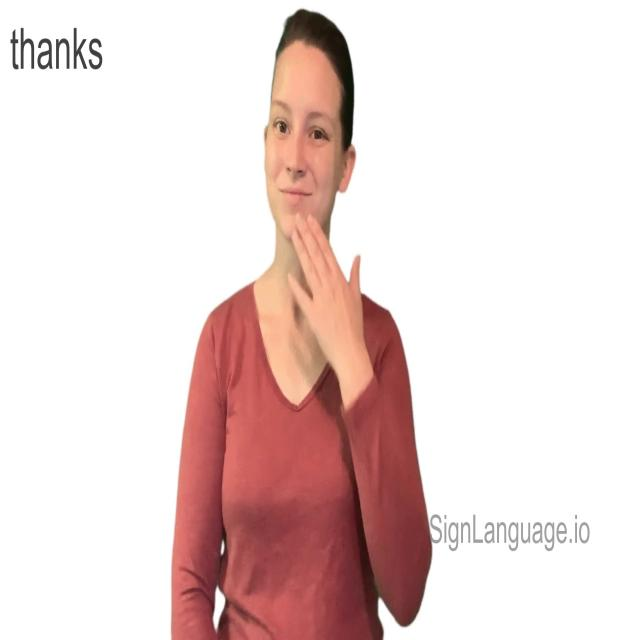thankyou: (262, 92, 368, 394)
